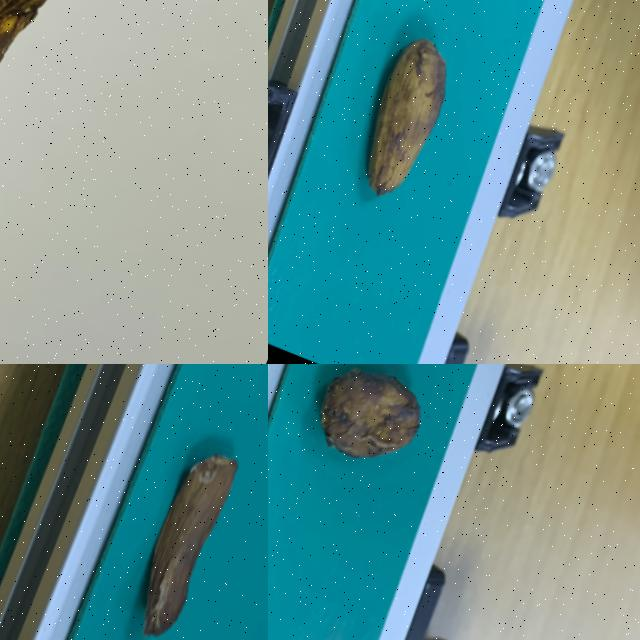Agglomerated_cocoabeans: (0, 0, 125, 269)
Fine_cocoabeans: (288, 0, 536, 269), (268, 364, 506, 567)
Flat_cocoabeans: (86, 379, 267, 639)
